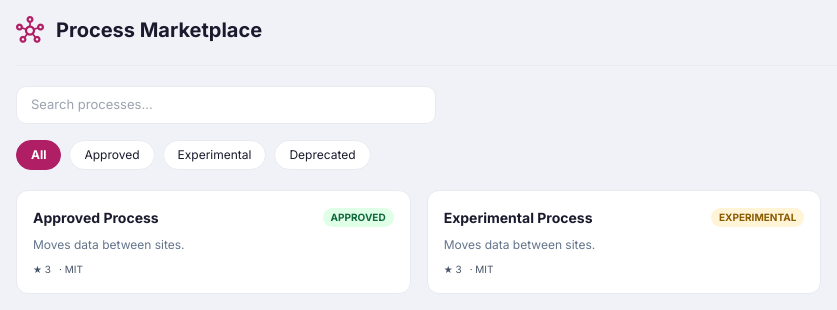
Test: MarketplacePage › narrows the grid to a single status when a filter chip is clicked
Expected: the text "Approved Process" is shown, [33,206,159,228]
Expected: the text "Experimental Process" is shown, [444,206,593,228]
Click the button "Experimental" at (215,154), box [163,140,266,170]
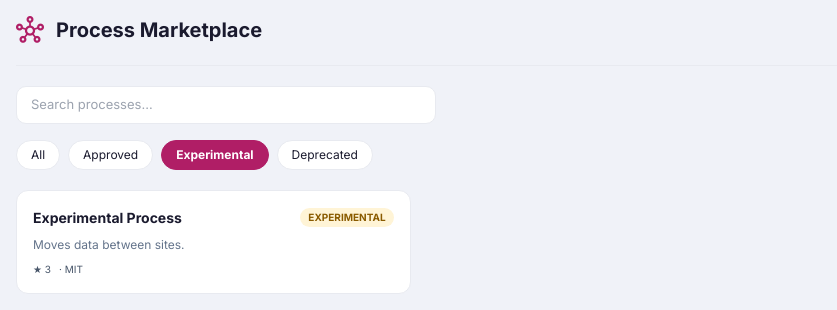
Expected: the text "Experimental Process" is shown, [33,206,182,228]
Expected: the link "Approved Process" is gone
